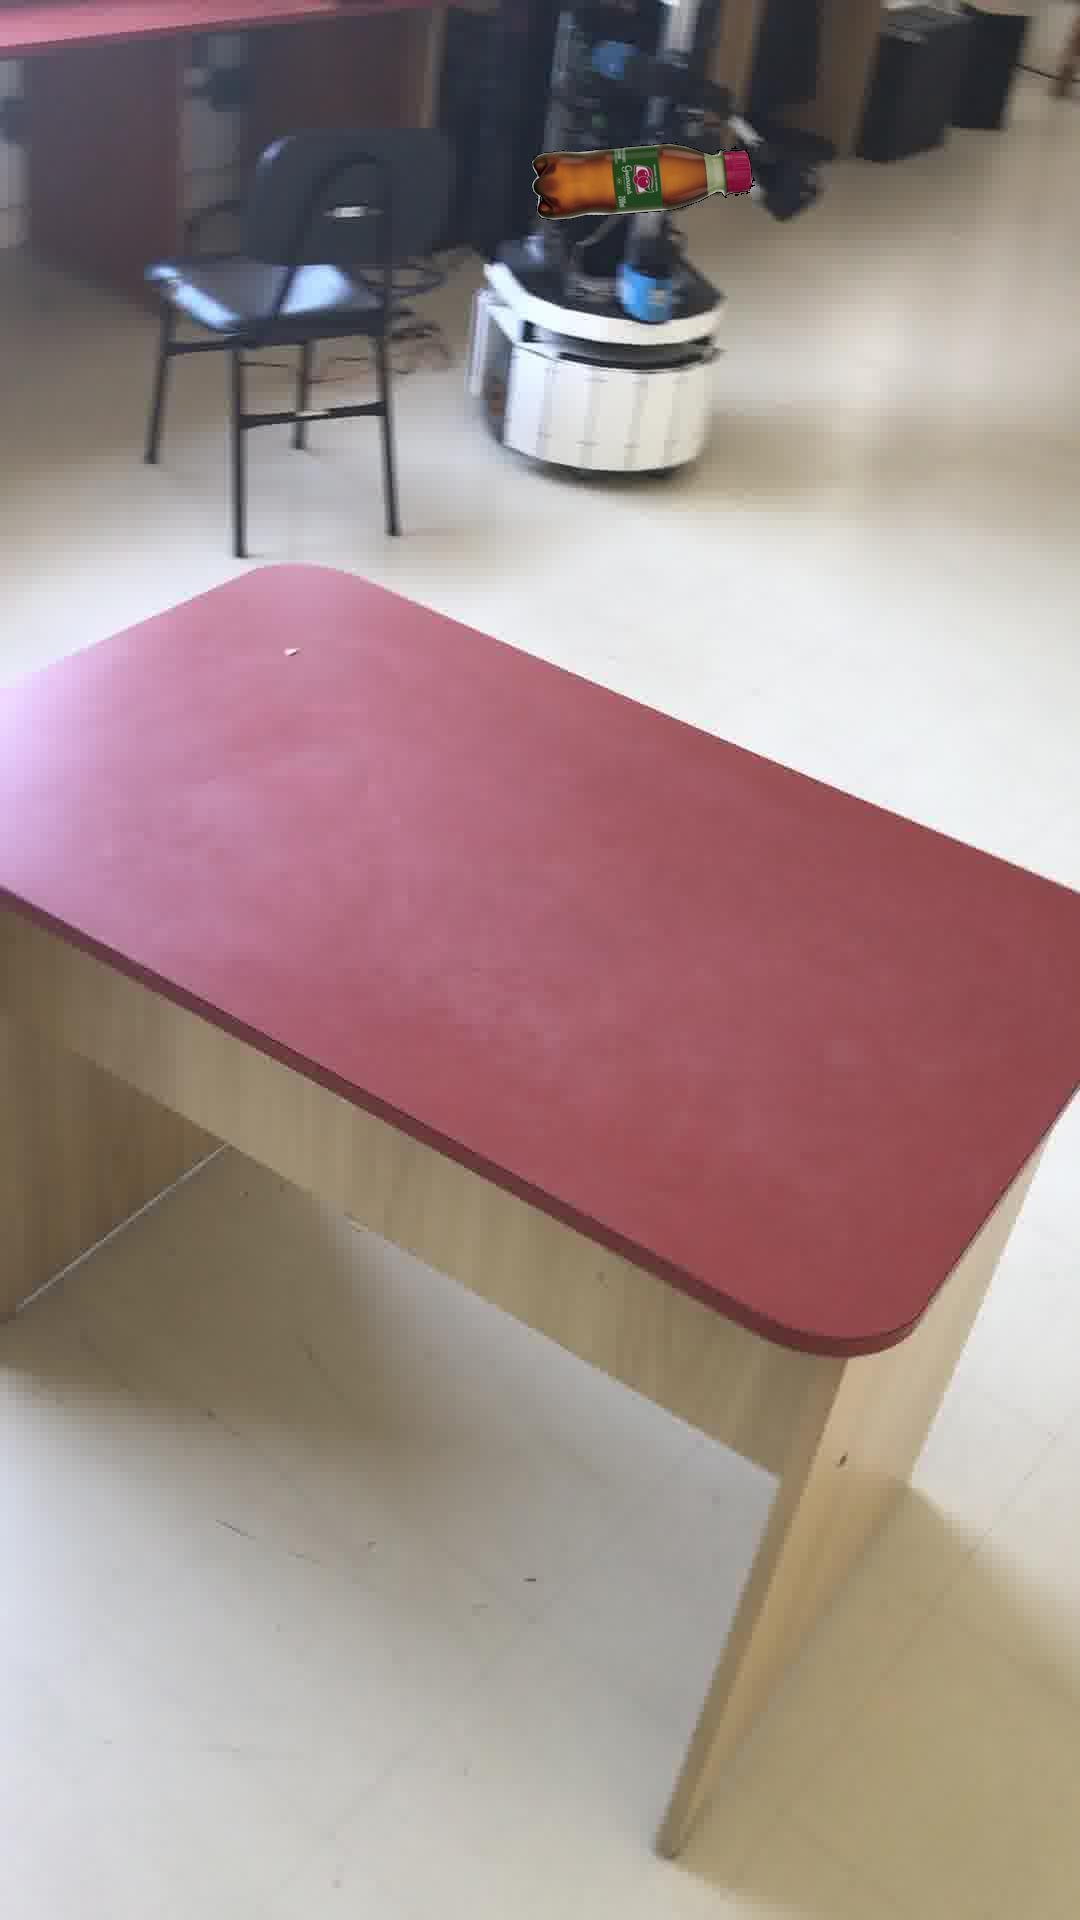guarana: (530, 141, 753, 219)
